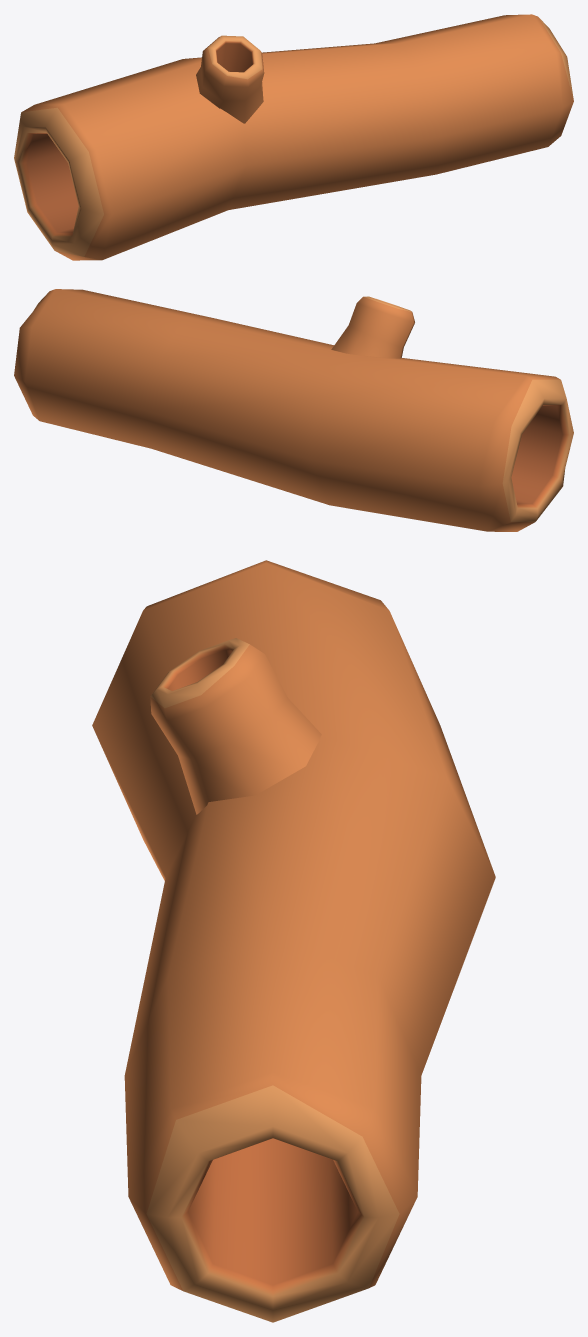
Rendered from tree trunk 01_toon_material_0.001.glb.
3 views of the same model, one above another, from view 1: azimuth 30°, elevation 25°; view 2: azimuth 150°, elevation 25°; view 3: azimuth 270°, elevation 25° (orthographic). The views are drawn at different scales.
Visible parts, largest first — view 1: tree trunk 01_toon_material_0.001; view 2: tree trunk 01_toon_material_0.001; view 3: tree trunk 01_toon_material_0.001.
Boxes of the visible parts, box(x1,y1,x2,y2) form: tree trunk 01_toon_material_0.001: box(14, 14, 573, 260); tree trunk 01_toon_material_0.001: box(14, 289, 573, 531); tree trunk 01_toon_material_0.001: box(92, 560, 495, 1322).
Size of the model in its own units: 2.31 by 0.8419 by 0.802.
Materials: 1 (1 with a texture image).
